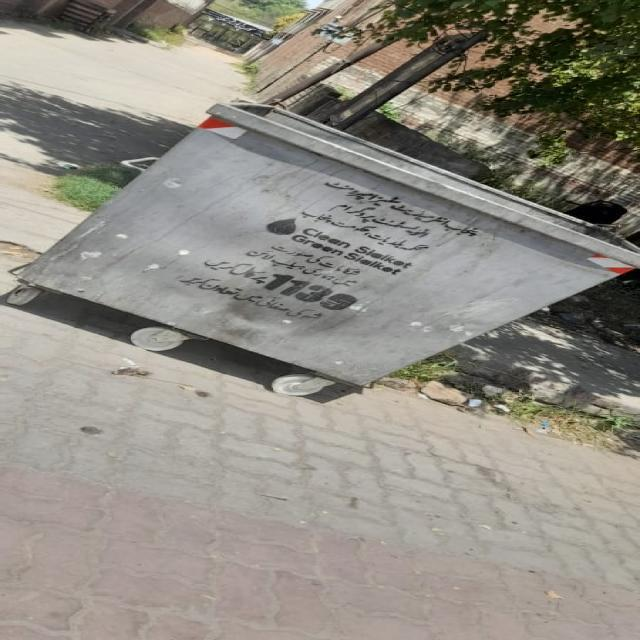garbage: (396, 358, 638, 431)
